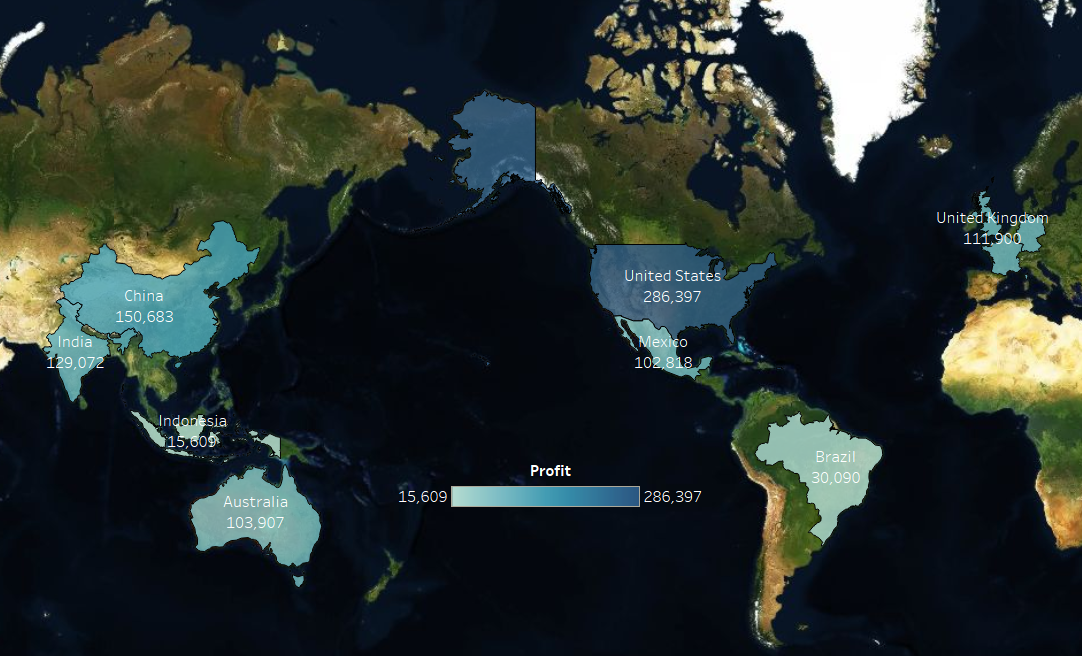

This screenshot's page, from the dashboard's own definition file:
{"tool":"tableau","page":{"name":"Dashboard 3","canvas":[1600,900],"ordinal":2},"visuals":[{"type":"worksheet","title":"Sheet 18","mark":"Automatic","box":[248,85,1105,733]},{"type":"worksheet","title":"Sheet 18","mark":"Automatic","param":"[federated.07vawsp02op6ja1btbkqj024gtjp].[sum:Profit:qk]","box":[650,572,313,55]}]}

Visuals, with their boxes on the page's 1600x900 design canvas (x1, y1, x2, y2). These are canvas units, not pixel positions in the 1082x656 screenshot, which may show the page scaled, cropped or inside an application window:
"Sheet 18" worksheet: (248, 85, 1353, 818)
"Sheet 18" worksheet: (650, 572, 963, 627)
